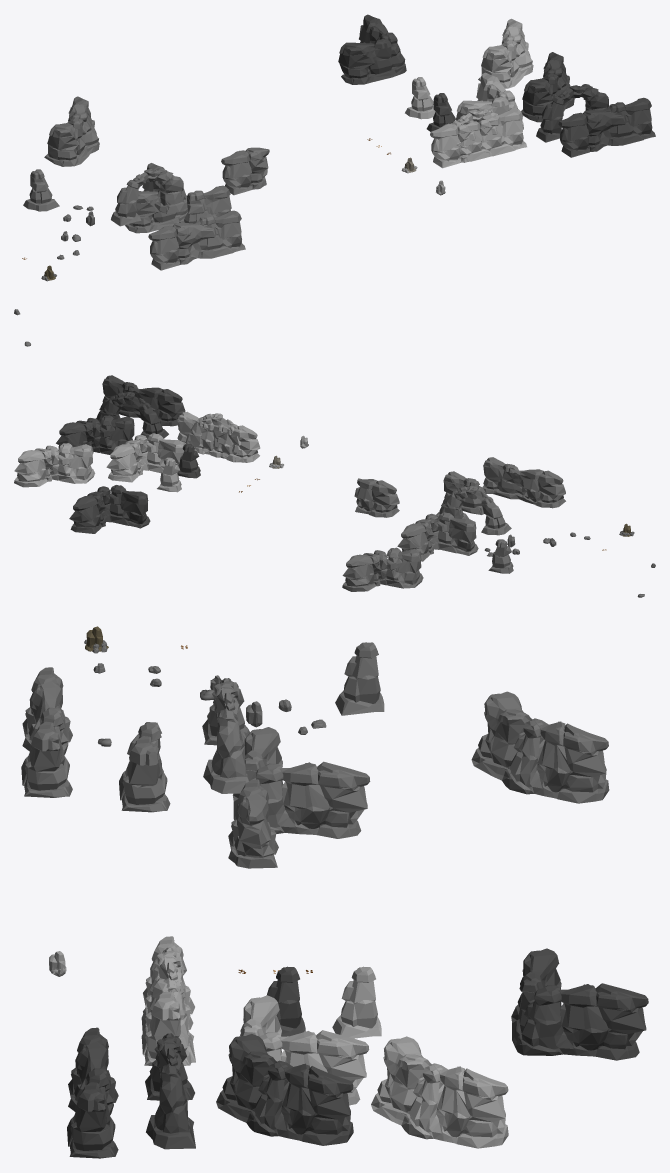
File: rocks.glb
3 views of the same model, one above another, from view 1: azimuth 30°, elevation 25°; view 2: azimuth 150°, elevation 25°; view 3: azimuth 270°, elevation 25° (orthographic). The views are drawn at different scales.
Parts seen in each view (by area): view 1: rockform.wall.long.medium, rockform.wall.long.dark, rockform.corner.hard.dark, rockform.corner.soft.medium, rockform.wall.long.light, rockform.arch.medium, rockform.corner.soft.light, rockform.corner.soft.dark, rockform.wall.short2.medium, rockform.arch.dark, rockform.corner.hard.medium, rockform.corner.hard.light (+6 smaller); view 2: rockform.corner.hard.dark, rockform.corner.soft.medium, rockform.corner.soft.light, rockform.wall.long.medium, rockform.corner.hard.medium, rockform.corner.hard.light, rockform.corner.soft.dark, rockform.wall.long.dark, rockform.arch.medium, rockform.wall.long.light, rockform.wall.short2.medium, rockform.arch.dark (+7 smaller); view 3: rockform.corner.hard.dark, rockform.corner.soft.medium, rockform.corner.soft.dark, rockform.corner.soft.light, rockform.corner.hard.medium, rockform.wall.long.dark, rockform.wall.long.medium, rockform.corner.hard.light, rockform.arch.dark, rockform.arch.medium, rockform.wall.short1.medium, rockform.wall.short2.medium (+5 smaller).
Part boxes in pixels (x1,y1,x2,y2): rockform.wall.long.medium: [148, 210, 245, 270]; rockform.wall.long.dark: [558, 97, 655, 157]; rockform.corner.hard.dark: [338, 14, 406, 84]; rockform.corner.soft.medium: [44, 96, 99, 166]; rockform.wall.long.light: [430, 108, 526, 168]; rockform.arch.medium: [111, 167, 187, 226]; rockform.corner.soft.light: [478, 18, 533, 88]; rockform.corner.soft.dark: [521, 52, 574, 122]; rockform.wall.short2.medium: [221, 147, 269, 195]; rockform.arch.dark: [536, 84, 609, 142]; rockform.corner.hard.medium: [125, 163, 188, 233]; rockform.corner.hard.light: [455, 72, 523, 129]; rockform.corner.hard.dark: [69, 485, 150, 533]; rockform.corner.soft.medium: [342, 547, 423, 591]; rockform.corner.soft.light: [14, 443, 95, 487]; rockform.wall.long.medium: [482, 457, 565, 508]; rockform.corner.hard.medium: [397, 512, 478, 561]; rockform.corner.hard.light: [106, 433, 184, 482]; rockform.corner.soft.dark: [56, 415, 134, 454]; rockform.wall.long.dark: [99, 375, 185, 426]; rockform.arch.medium: [436, 486, 511, 535]; rockform.wall.long.light: [177, 411, 260, 462]; rockform.wall.short2.medium: [354, 478, 399, 517]; rockform.arch.dark: [96, 392, 168, 440]; rockform.corner.hard.dark: [511, 948, 648, 1060]; rockform.corner.soft.medium: [471, 691, 609, 803]; rockform.corner.soft.dark: [216, 1034, 353, 1145]; rockform.corner.soft.light: [371, 1036, 508, 1148]; rockform.corner.hard.medium: [232, 727, 370, 838]; rockform.wall.long.dark: [67, 1027, 118, 1158]; rockform.wall.long.medium: [21, 667, 72, 797]; rockform.corner.hard.light: [240, 995, 369, 1105]; rockform.arch.dark: [145, 1033, 195, 1149]; rockform.arch.medium: [202, 678, 249, 793]; rockform.wall.short1.medium: [119, 722, 170, 812]; rockform.wall.short2.medium: [228, 779, 278, 868].
Bounding box in the file's own units: 291 × 49.02 × 143.
1 material, 1 textured.
